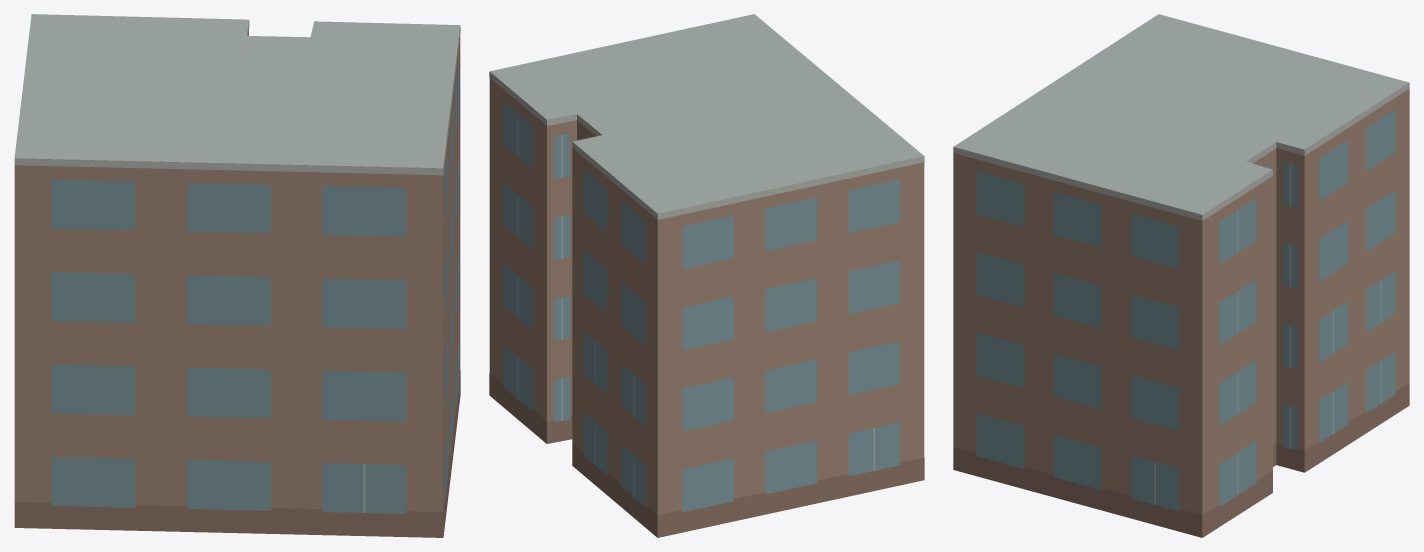
File: survey-upis-32741064.glb
3 renders of one model, left to right at view 1: azimuth 30°, elevation 25°; view 2: azimuth 150°, elevation 25°; view 3: azimuth 270°, elevation 25°, orthographic. The views are drawn at different scales.
Visible parts, largest first — view 1: survey-upis-32741064.tmp; view 2: survey-upis-32741064.tmp; view 3: survey-upis-32741064.tmp.
Boxes of the visible parts, <box> form: survey-upis-32741064.tmp: <box>14,14,460,537</box>; survey-upis-32741064.tmp: <box>489,14,924,537</box>; survey-upis-32741064.tmp: <box>953,14,1409,537</box>.
Bounding box in the file's own units: 17.21 × 12.9 × 16.52.
